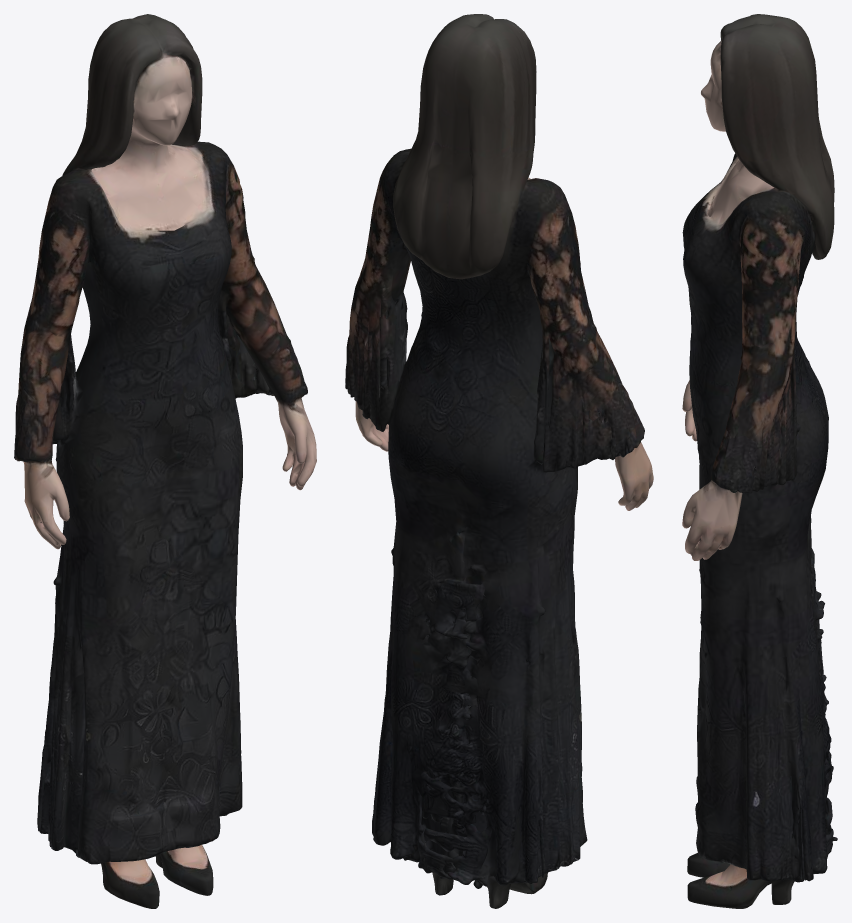
File: woman-02.glb
3 renders of one model, left to right at view 1: azimuth 30°, elevation 25°; view 2: azimuth 150°, elevation 25°; view 3: azimuth 270°, elevation 25°, orthographic.
Visible parts, largest first — view 1: tripo_node_842d50d3-178f-449b-9a7f-a78d06b94b6d; view 2: tripo_node_842d50d3-178f-449b-9a7f-a78d06b94b6d; view 3: tripo_node_842d50d3-178f-449b-9a7f-a78d06b94b6d.
Boxes of the visible parts, left/top/right/bottom form: tripo_node_842d50d3-178f-449b-9a7f-a78d06b94b6d: left=14, top=14, right=316, bottom=908; tripo_node_842d50d3-178f-449b-9a7f-a78d06b94b6d: left=345, top=14, right=653, bottom=908; tripo_node_842d50d3-178f-449b-9a7f-a78d06b94b6d: left=682, top=14, right=837, bottom=908.
Size of the model in its own units: 0.3491 by 0.9997 by 0.1619.
1 material, 1 textured.
